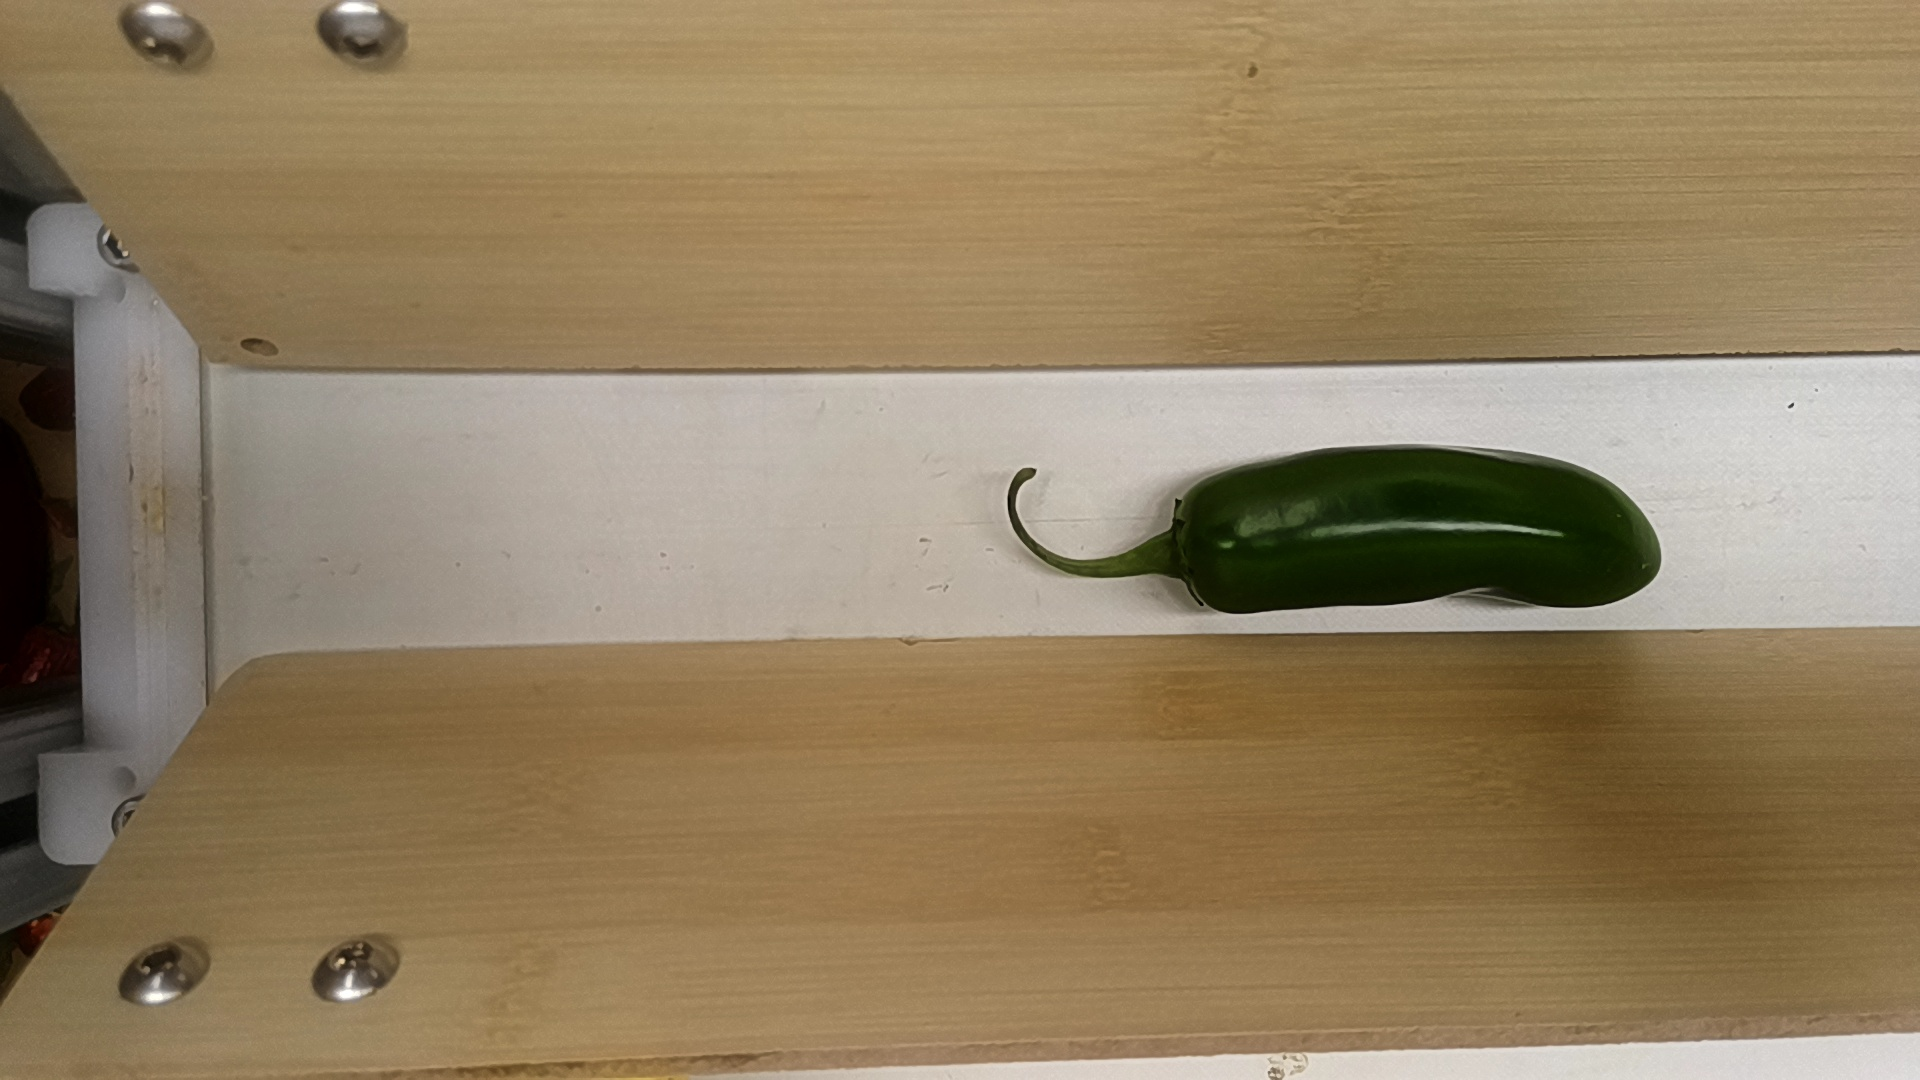Cut Point: (1151, 469, 1237, 622)
